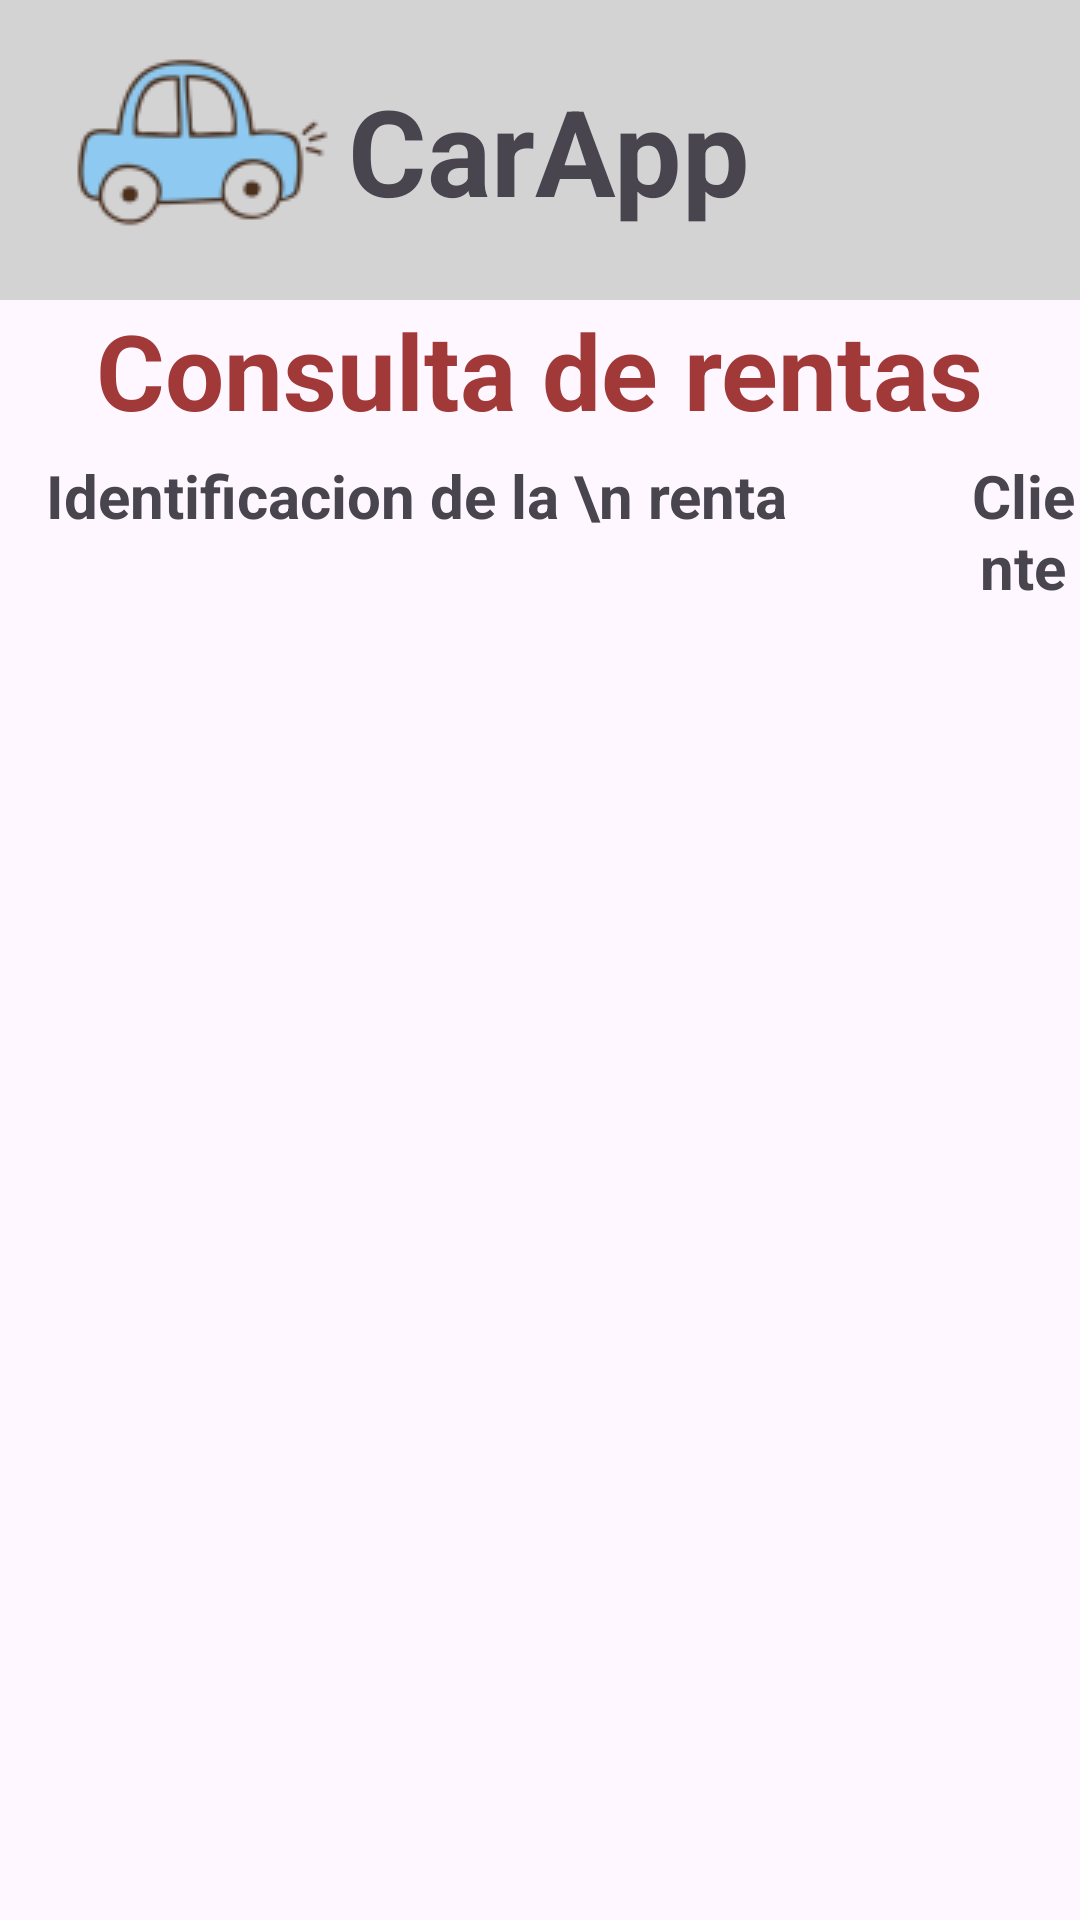

Icons on this 1080w x 1920h Android screen, each with the point to tap as point (x, y):
carrito: point (202, 142)
